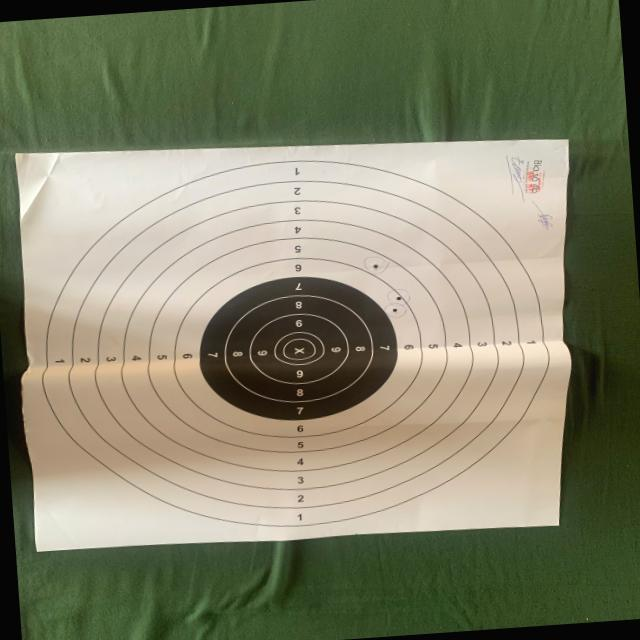bullet: (397, 296, 401, 300), (373, 264, 377, 268), (392, 308, 396, 311)
target: (16, 137, 572, 551)
